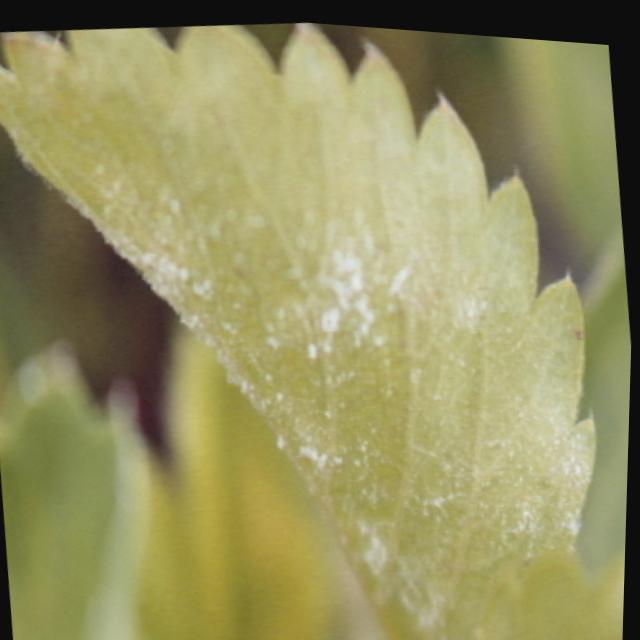Powdery Mildew Leaf: (0, 18, 598, 640)
